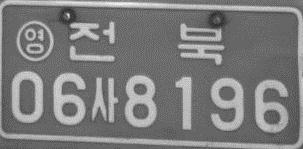0: (10, 70, 44, 124)
1: (168, 77, 204, 130)
6: (51, 71, 87, 126), (254, 79, 289, 133)
8: (123, 74, 156, 128)
9: (209, 77, 244, 132)
사: (90, 76, 118, 124)
영: (15, 19, 53, 62)
전북_D: (68, 21, 224, 65)
